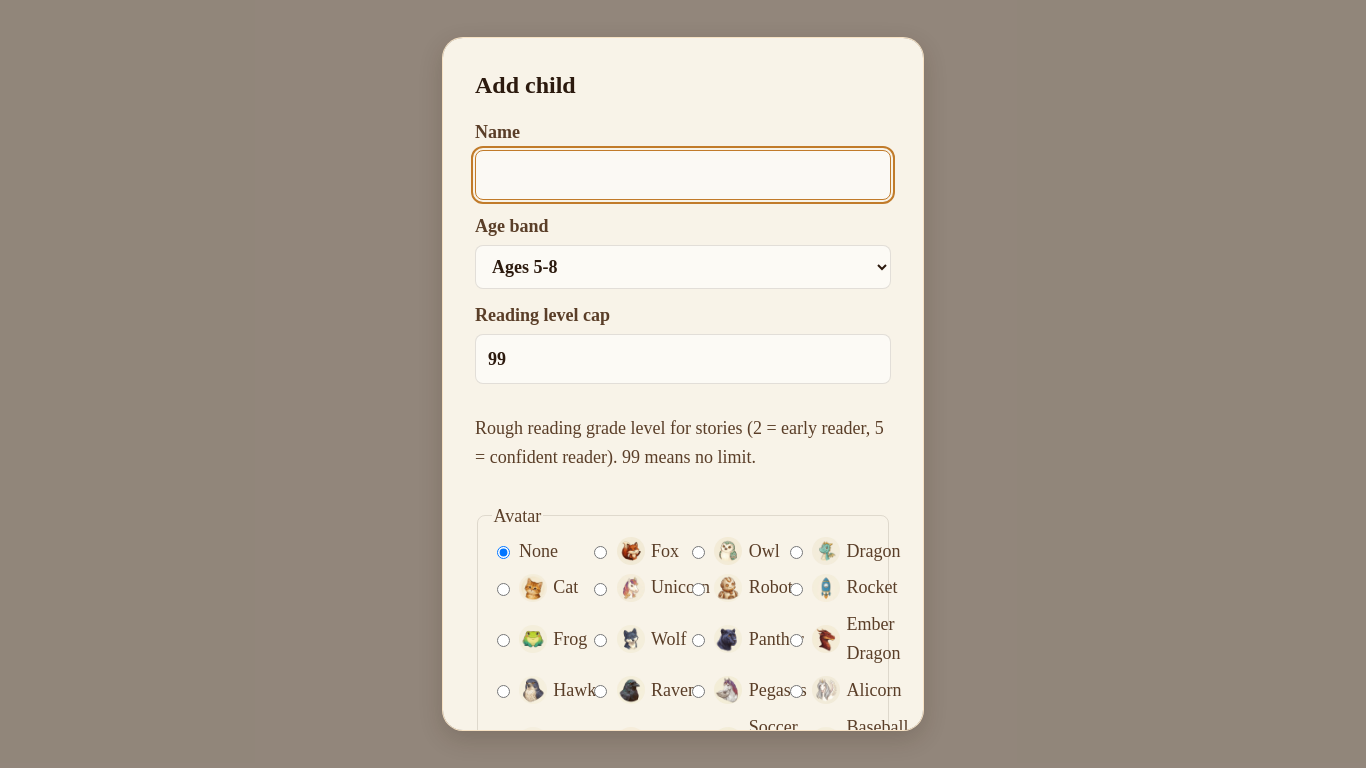
ProfileFormDialog › shows a permission message (not a transient retry) on a 403 save
This screenshot has width=1366, height=768.
Type "Robin" into the field labelled "Name" at x=683, y=175, box [475, 150, 891, 200]
(page scrolled)
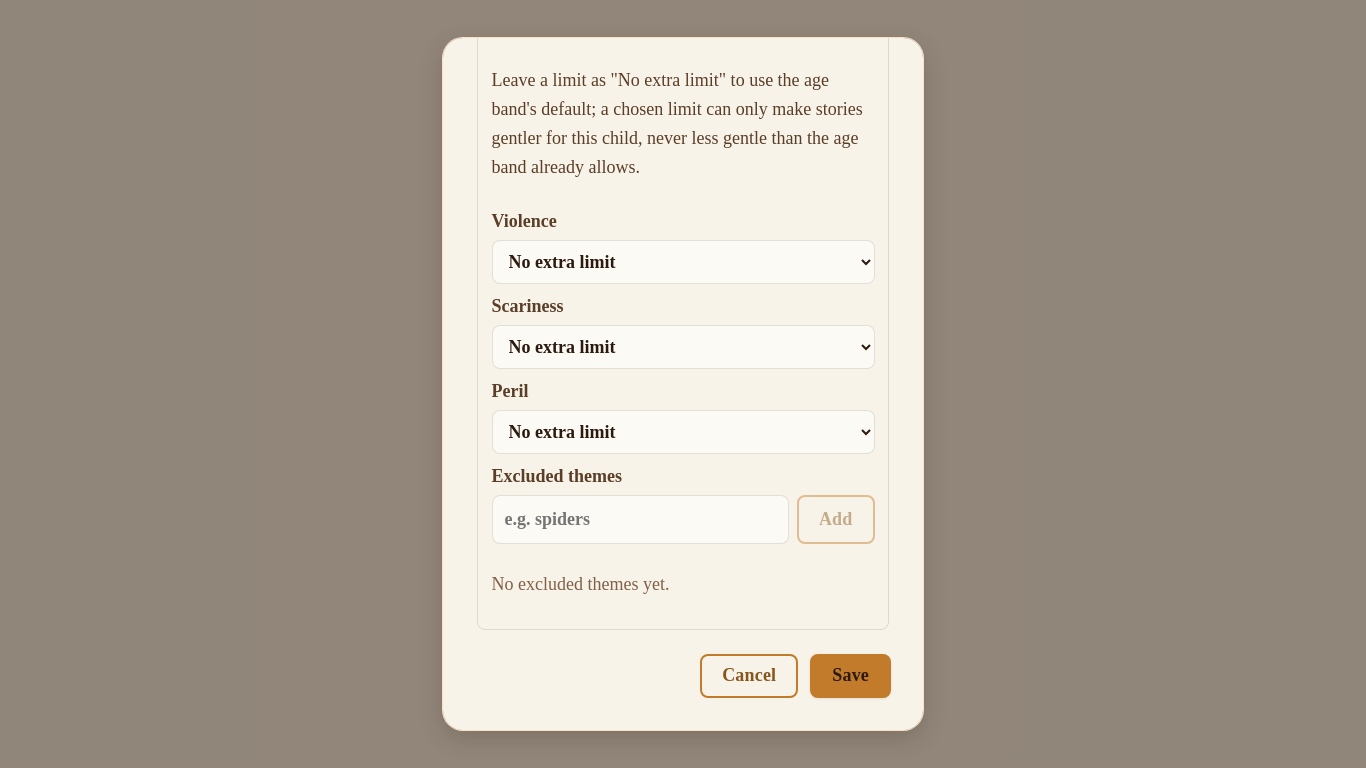
Click the button "Save" at x=851, y=676, box [810, 654, 891, 698]
(page scrolled)
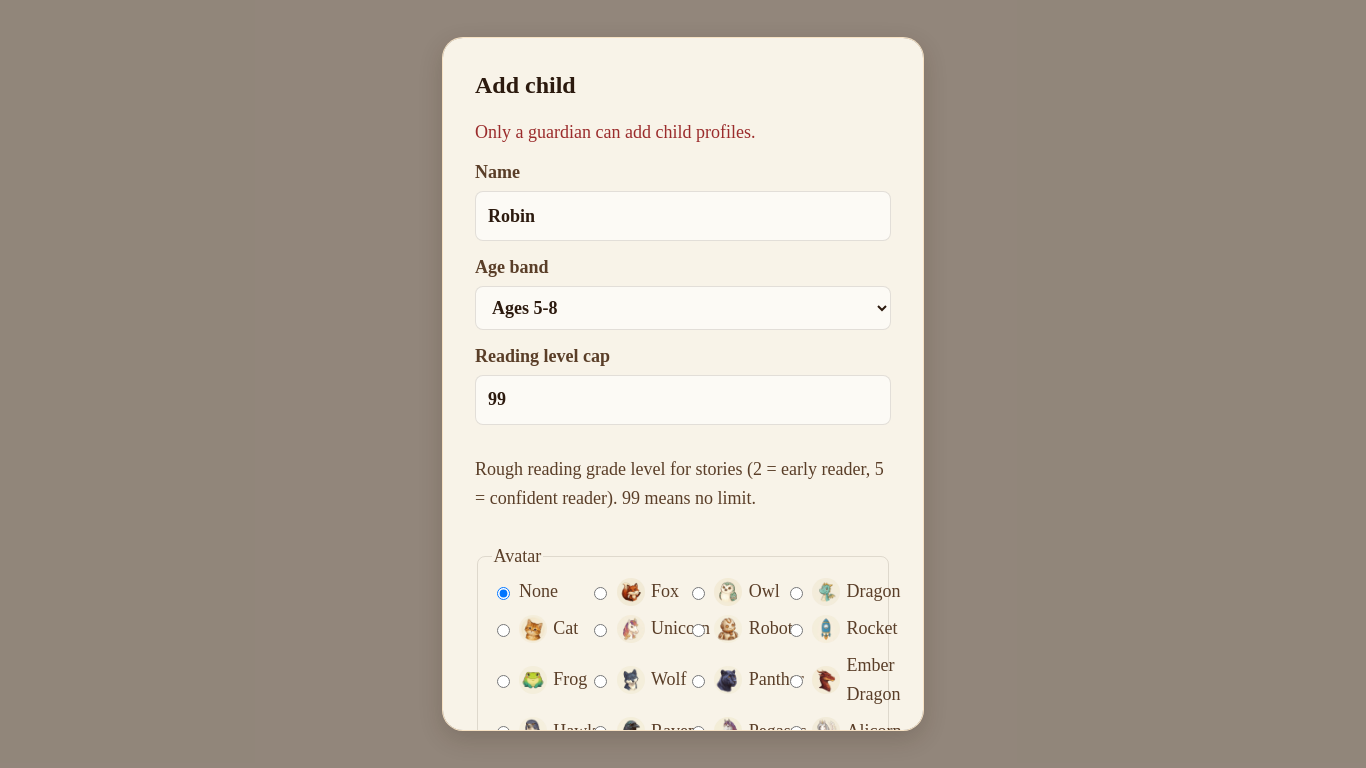
Expected: the message does not show "try again", [475, 122, 755, 142]
Now the message shows "Only a guardian", box [475, 122, 755, 142]
